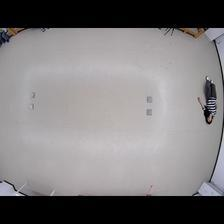fall: (198, 76, 218, 124)
